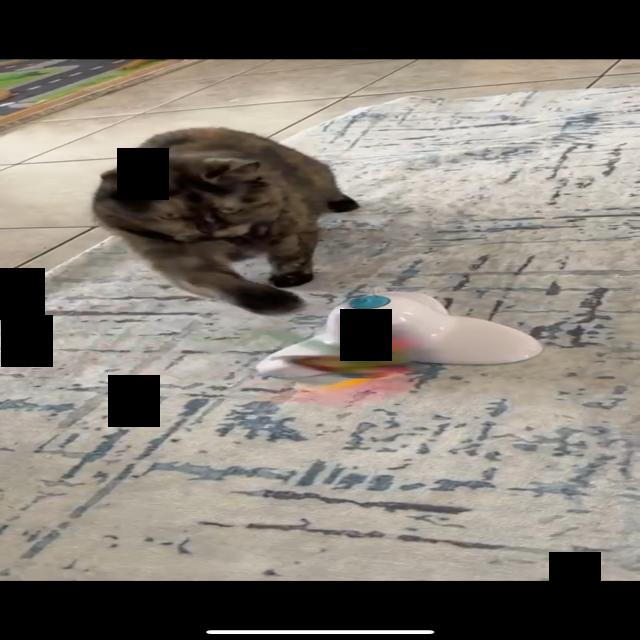authorized: (91, 126, 359, 316)
